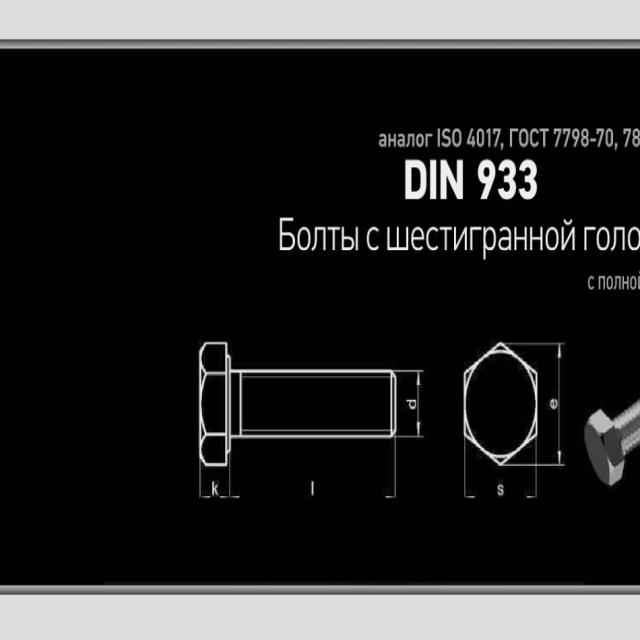marking_line: (539, 341, 566, 467), (397, 370, 424, 439), (198, 467, 241, 502), (384, 440, 401, 502), (525, 447, 539, 503), (463, 445, 476, 497)
numeric: (477, 157, 497, 202), (518, 158, 539, 200), (498, 159, 516, 199), (441, 127, 452, 148), (561, 126, 571, 148), (452, 127, 462, 148), (596, 127, 605, 149), (553, 127, 562, 147), (467, 128, 476, 148), (607, 127, 615, 149), (493, 126, 501, 148), (572, 126, 580, 147), (477, 127, 485, 148), (581, 127, 589, 147), (632, 128, 640, 148), (416, 132, 425, 149), (623, 127, 630, 148), (486, 128, 492, 148)
